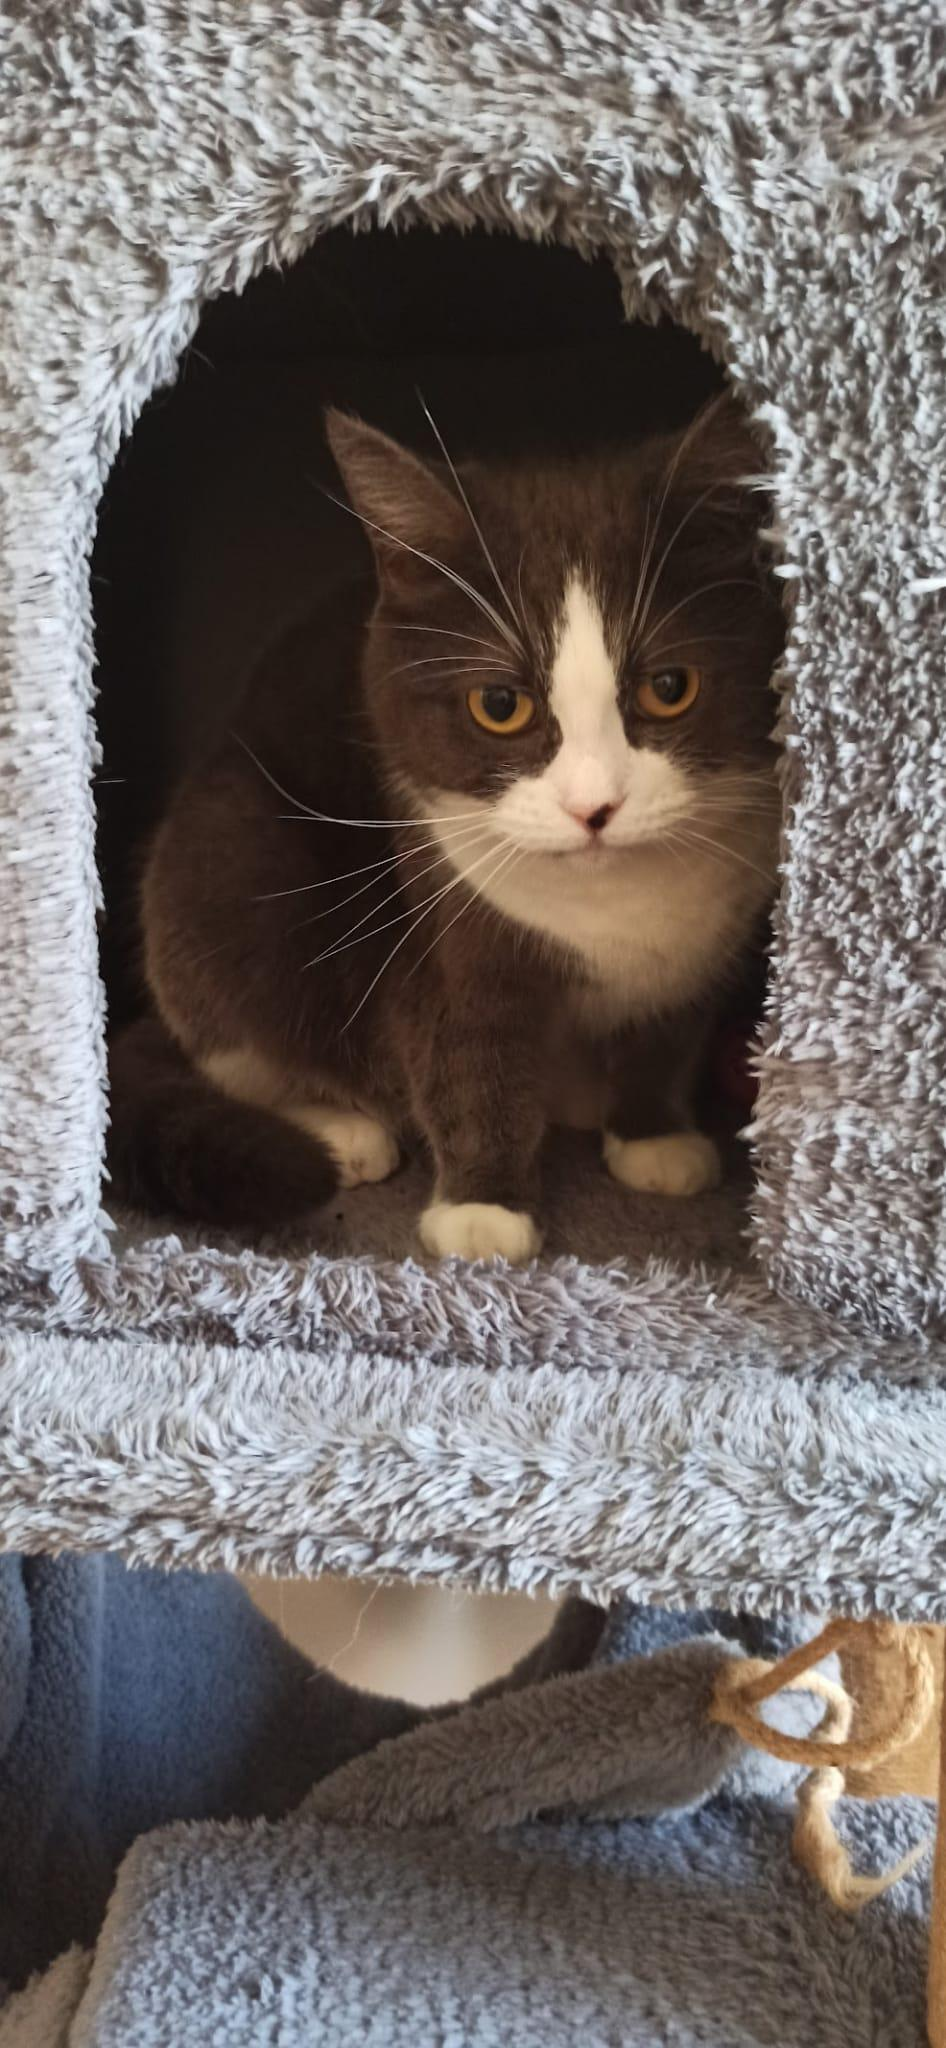kedo: (159, 408, 747, 1253)
